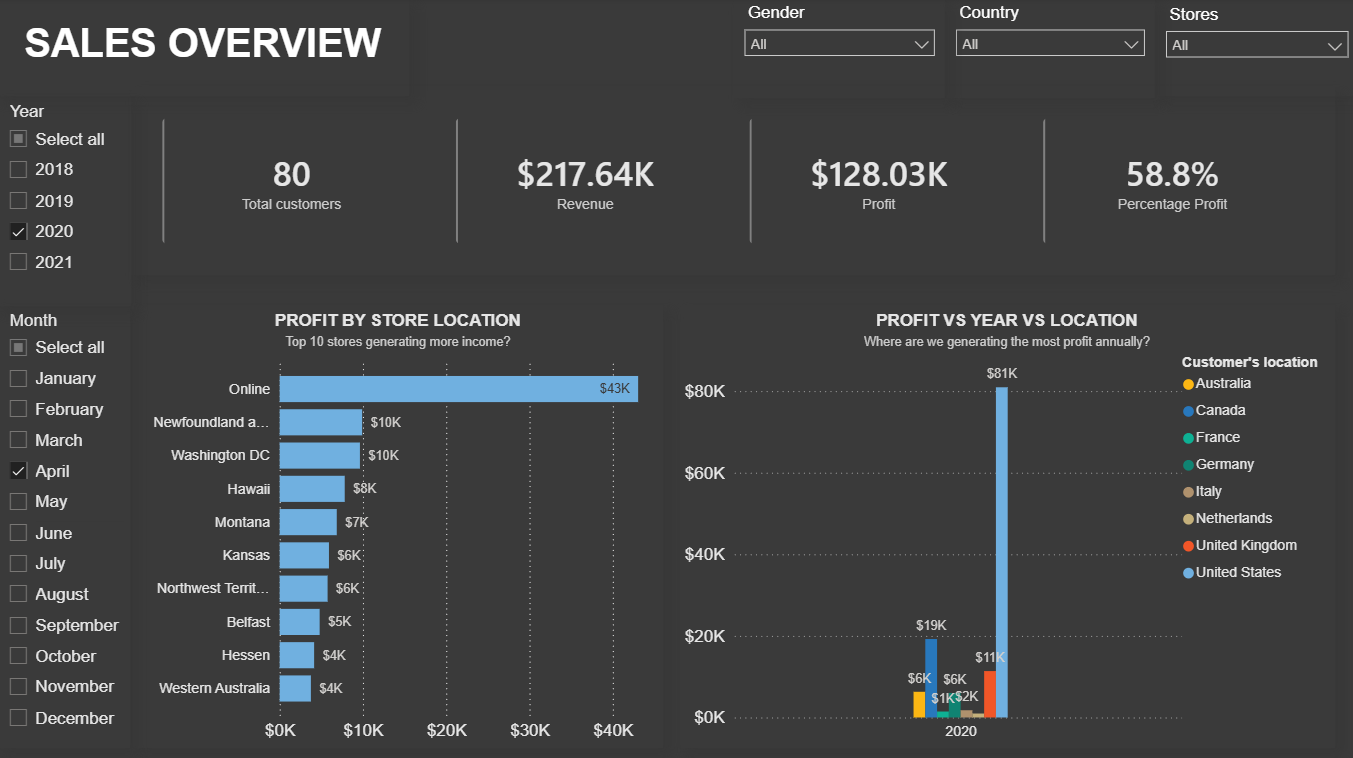

The page's visual inventory and layout, read from the dashboard file:
{"tool":"powerbi","page":{"name":"OVERVIEW","canvas":[1280,720],"ordinal":0},"visuals":[{"type":"slicer","fields":{"Values":["Customers.Country"]},"box":[892.1,0,197.4,94.7],"z":1000,"group":"g1"},{"type":"slicer","fields":{"Values":["Sales.Order Date.Variation.Date Hierarchy.Year"]},"box":[0,93.6,127.5,197.2],"z":3000,"group":"g1"},{"type":"slicer","fields":{"Values":["Sales.Order Date.Variation.Date Hierarchy.Month"]},"box":[0,289.2,125.7,416.4],"z":5000,"group":"g1"},{"type":"slicer","fields":{"Values":["Stores.State"]},"box":[1089.5,1.6,191.1,91.6],"z":8000,"group":"g1"},{"type":"cardVisual","fields":{"Data":["_Measures.Total customers","_Measures.Revenue","_Measures.profit","_Measures.% profit"]},"box":[126.3,85.3,1132.1,176.8],"z":13000},{"type":"clusteredColumnChart","title":"PROFIT VS YEAR VS LOCATION","fields":{"Series":["Customers.Country"],"Y":["_Measures.profit"],"Category":["Sales.Order Date.Variation.Date Hierarchy.Year"]},"box":[641.1,289,617.4,416.8],"z":14000},{"type":"barChart","title":"PROFIT BY STORE LOCATION","fields":{"Y":["_Measures.profit"],"Category":["Inland stores.State"]},"box":[127.9,289,499,416.8],"z":15000},{"type":"textbox","box":[0,2,388.4,91.6],"z":17000},{"type":"slicer","fields":{"Values":["Customers.Gender"]},"box":[693.2,0,198.9,94.7],"z":18000,"group":"g1"},{"type":"group","id":"g1","title":"Sliders","box":[0,0,1280.5,705.6],"z":18001}]}

Visuals, with their boxes in screenshot pixels (x1, y1, x2, y2), scaled from the page's 1280x720 canvas onto the 1353x758 screenshot:
slicer - Customers.Country: [x1=943, y1=0, x2=1152, y2=100]
slicer - Sales.Order Date.Variation.Date Hierarchy.Year: [x1=0, y1=99, x2=135, y2=306]
slicer - Sales.Order Date.Variation.Date Hierarchy.Month: [x1=0, y1=304, x2=133, y2=743]
slicer - Stores.State: [x1=1152, y1=2, x2=1352, y2=98]
cardVisual - _Measures.Total customers x _Measures.Revenue: [x1=134, y1=90, x2=1330, y2=276]
"PROFIT VS YEAR VS LOCATION" clusteredColumnChart: [x1=678, y1=304, x2=1330, y2=743]
"PROFIT BY STORE LOCATION" barChart: [x1=135, y1=304, x2=663, y2=743]
textbox: [x1=0, y1=2, x2=411, y2=99]
slicer - Customers.Gender: [x1=733, y1=0, x2=943, y2=100]
"Sliders" group: [x1=0, y1=0, x2=1352, y2=743]
